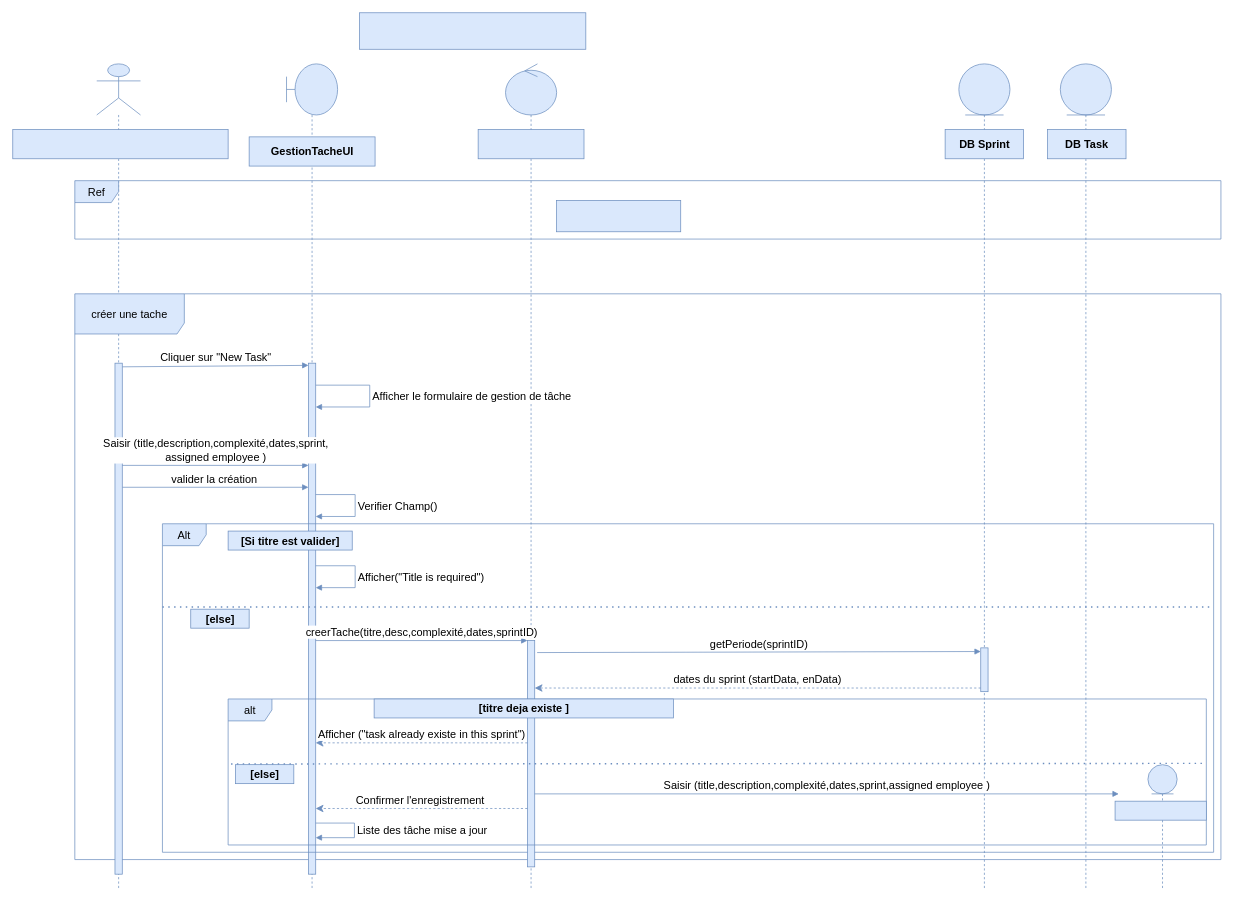
Image size: 1234x902. Some labels were removed from this diagram. The centre of each missing label's shape, as x and y in pixels:
Administrateur /chef de service: pixel 120 144
Authentification: pixel 618 216
new Task:Sprint: pixel 1160 810
SD Gérer Tâche: pixel 472 30
TaskContrller: pixel 530 144
